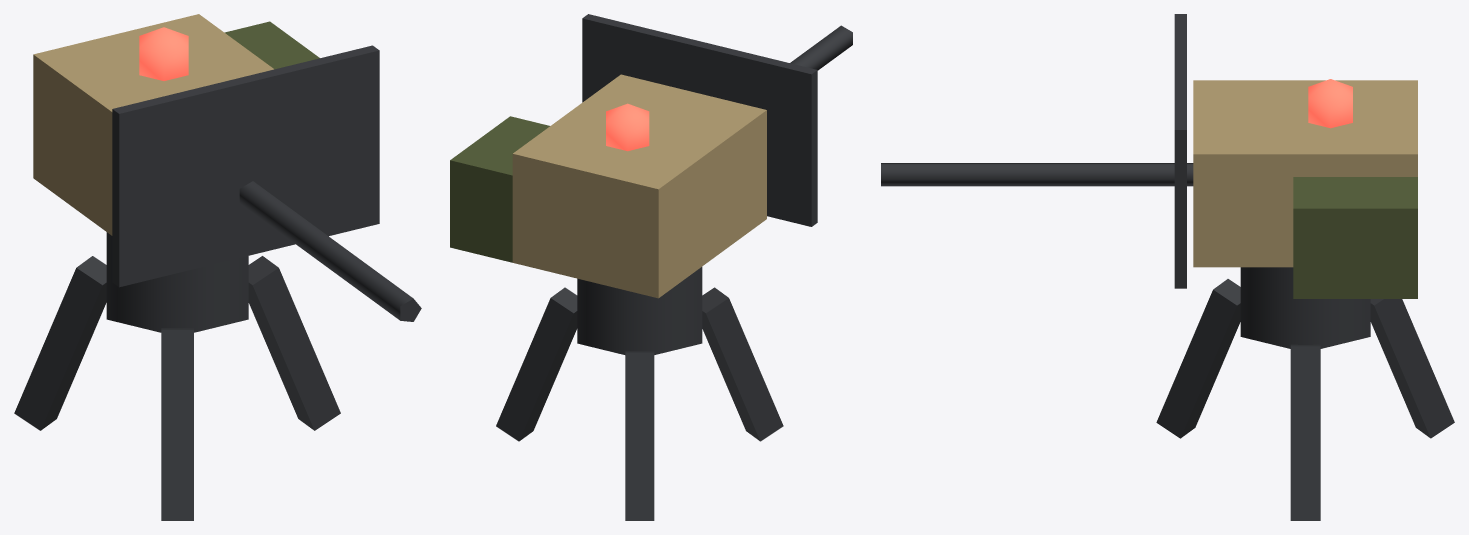
The model's file is unit_mil_sentry_a07_lod2.glb.
The picture shows the model from 3 angles, left to right: view 1: azimuth 30°, elevation 25°; view 2: azimuth 150°, elevation 25°; view 3: azimuth 270°, elevation 25°; orthographic projection. The views are drawn at different scales.
Parts seen in each view (by area): view 1: turret, body; view 2: turret, body; view 3: turret, body.
Boxes of the visible parts, x1,y1,x2,y2 form: turret: (33,14,421,321); body: (14,232,340,520); turret: (450,14,852,298); body: (496,267,783,520); turret: (881,14,1417,298); body: (1156,267,1454,520).
Bounding box in the file's own units: 1.21 × 1.72 × 2.3.
